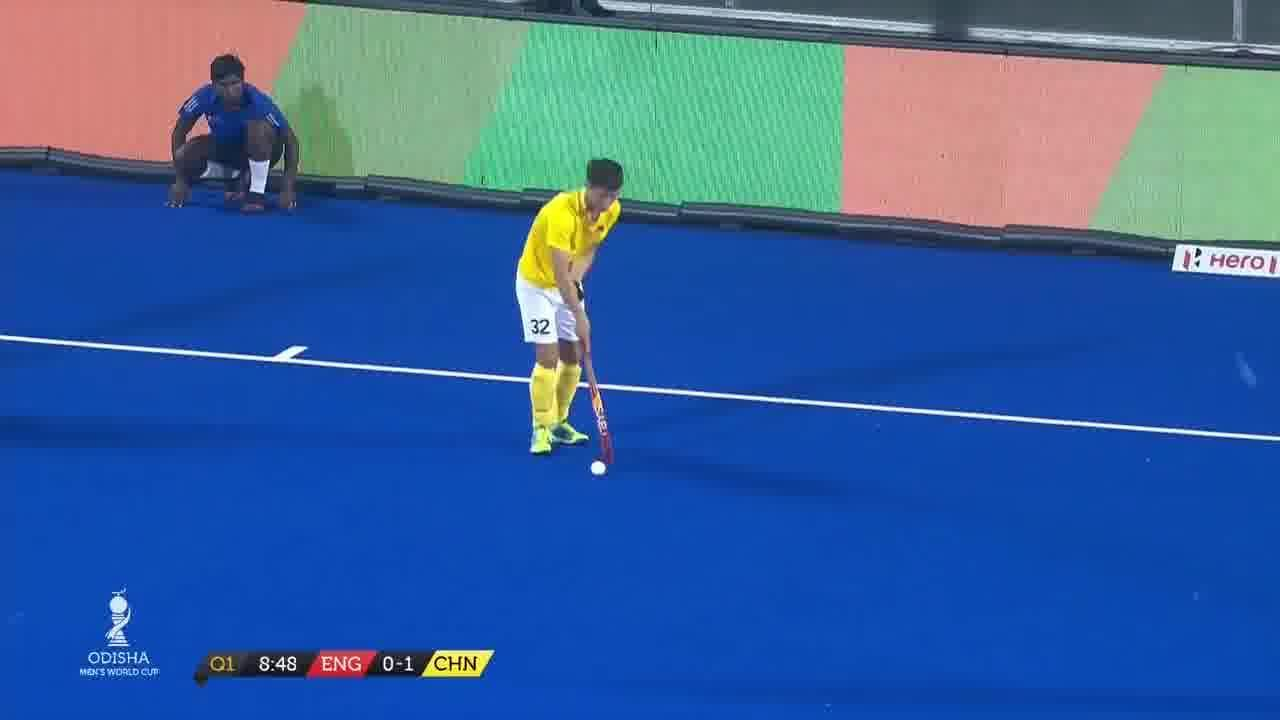ball: (591, 459, 607, 478)
